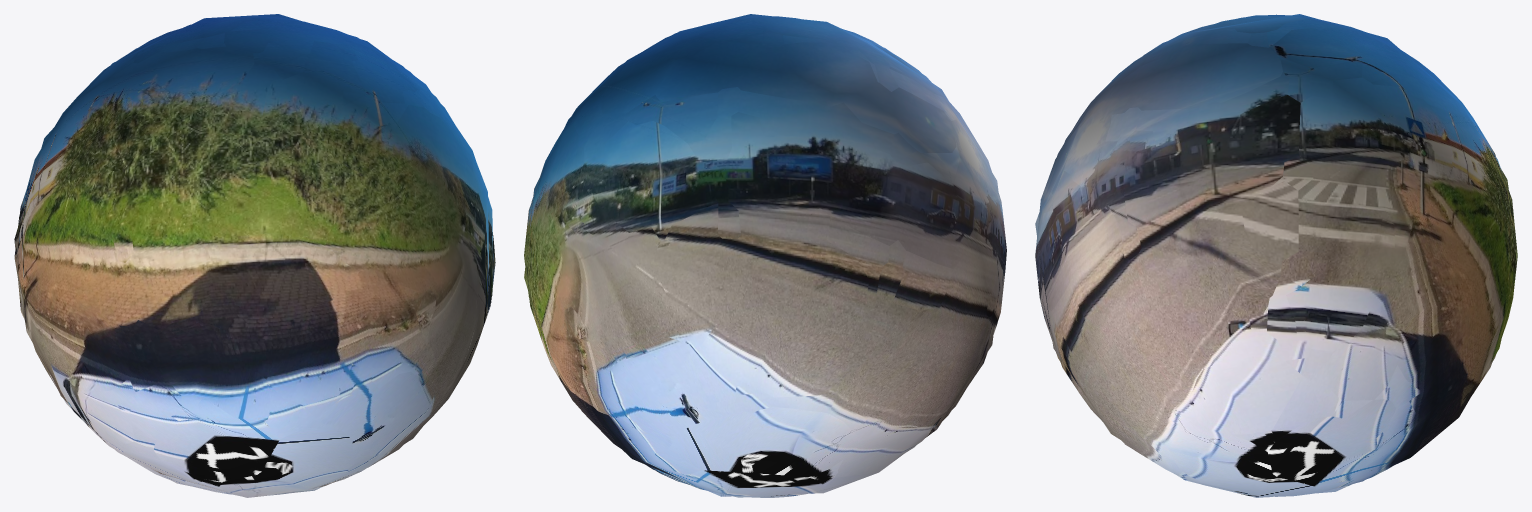
File: __lods__Overtaking-9.glb
3 views of the same model, side by side, from view 1: azimuth 30°, elevation 25°; view 2: azimuth 150°, elevation 25°; view 3: azimuth 270°, elevation 25° (orthographic).
Parts seen in each view (by area): view 1: __LOD_2__Sphere, __LOD_1__Sphere, __LOD_0__Sphere; view 2: __LOD_2__Sphere, __LOD_1__Sphere, __LOD_0__Sphere; view 3: __LOD_2__Sphere, __LOD_1__Sphere, __LOD_0__Sphere.
Part boxes in pixels (x1,y1,x2,y2): __LOD_2__Sphere: (14, 14, 489, 497); __LOD_1__Sphere: (14, 15, 493, 496); __LOD_0__Sphere: (16, 16, 495, 494); __LOD_2__Sphere: (524, 14, 998, 496); __LOD_1__Sphere: (524, 15, 1006, 497); __LOD_0__Sphere: (525, 16, 1006, 497); __LOD_2__Sphere: (1035, 14, 1517, 497); __LOD_1__Sphere: (1035, 15, 1517, 497); __LOD_0__Sphere: (1035, 14, 1517, 496).
Size of the model in its own units: 2 by 2 by 2.
Materials: 1 (1 with a texture image).
